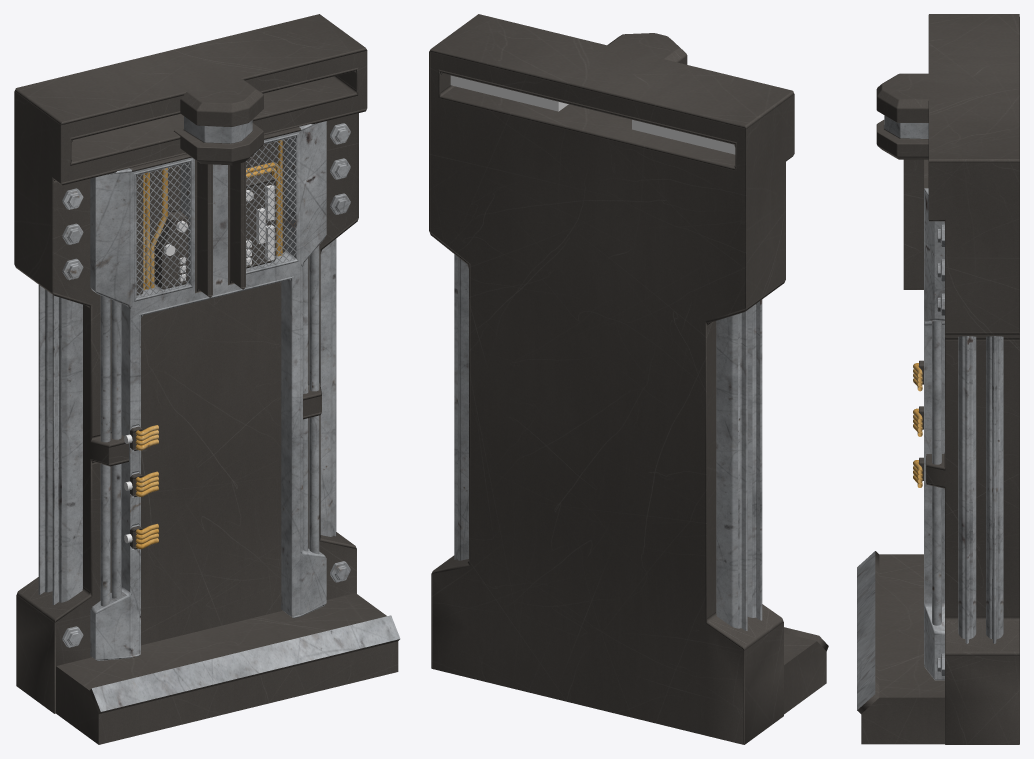
File: PodCell.fbx
The picture shows the model from 3 angles, left to right: view 1: azimuth 30°, elevation 25°; view 2: azimuth 150°, elevation 25°; view 3: azimuth 270°, elevation 25°; orthographic projection. The views are drawn at different scales.
Visible parts, largest first — view 1: Base, Emissives; view 2: Base, Emissives; view 3: Base.
Boxes of the visible parts, x1=… form: Base: x1=14, y1=14, x2=400, y2=744; Emissives: x1=124, y1=185, x2=274, y2=543; Base: x1=429, y1=14, x2=828, y2=744; Emissives: x1=450, y1=75, x2=735, y2=154; Base: x1=857, y1=14, x2=1019, y2=744.
Bounding box in the file's own units: 2.82 × 1.32 × 5.26.
